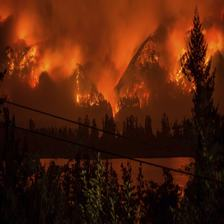fire: (5, 12, 221, 109)
